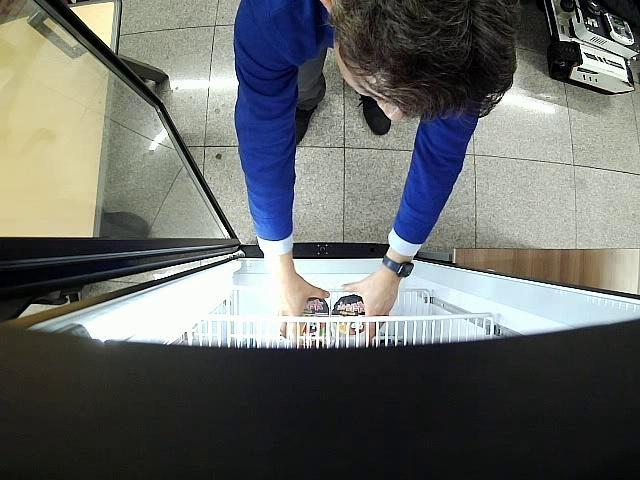08_buldak_S: (332, 294, 366, 335), (304, 298, 329, 336)
